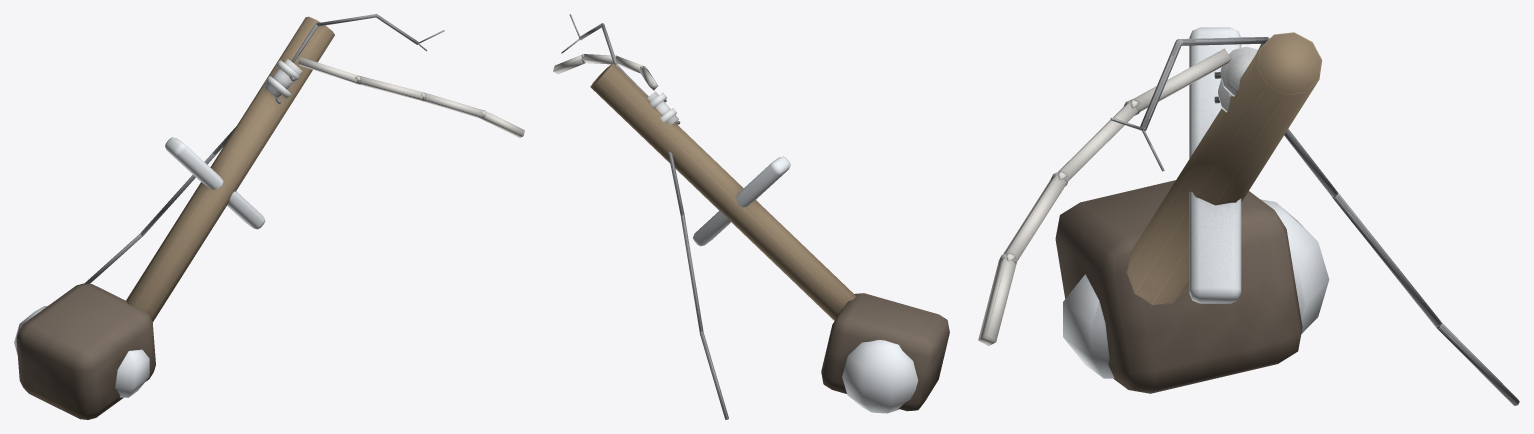
File: broken_post.glb
3 renders of one model, left to right at view 1: azimuth 30°, elevation 25°; view 2: azimuth 150°, elevation 25°; view 3: azimuth 270°, elevation 25°, orthographic. The views are drawn at different scales.
Parts seen in each view (by area): view 1: broken_post; view 2: broken_post; view 3: broken_post.
Boxes of the visible parts, x1,y1,x2,y2 form: broken_post: (14, 14, 524, 419); broken_post: (553, 14, 949, 419); broken_post: (978, 27, 1519, 405).
Bounding box in the file's own units: 1.94 × 1.31 × 1.04.
1 material, 1 textured.
